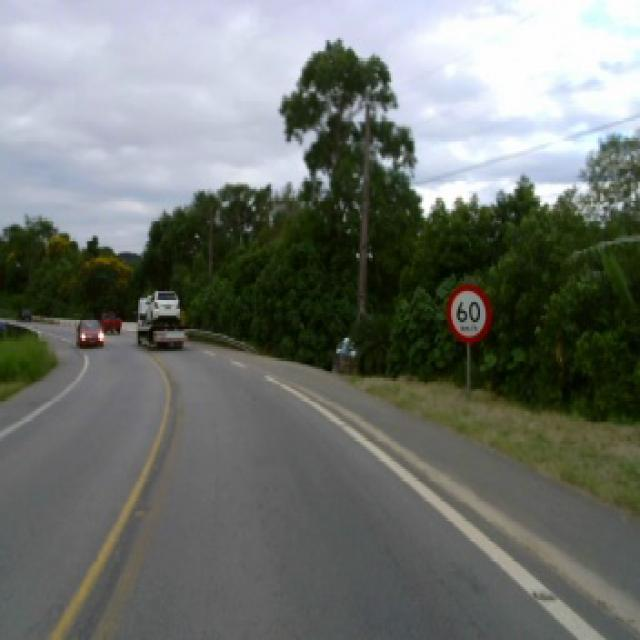Poth-hole: (528, 589, 556, 598)
